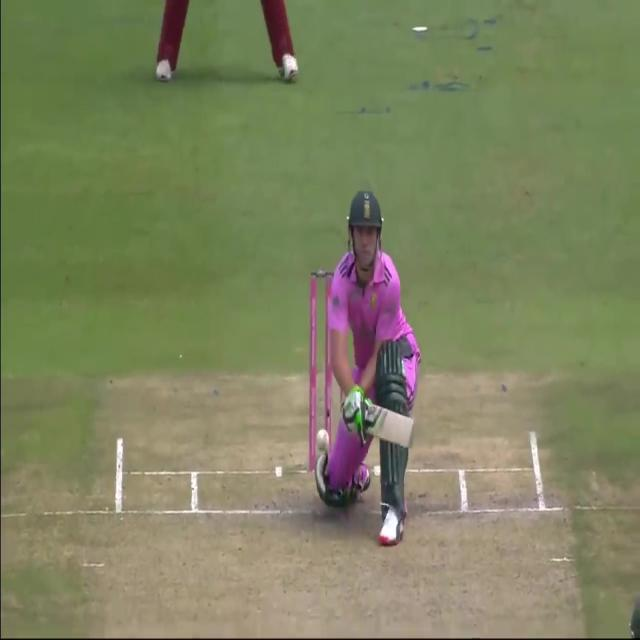Ball: (306, 187, 419, 549)
Fielder: (151, 0, 309, 95)
